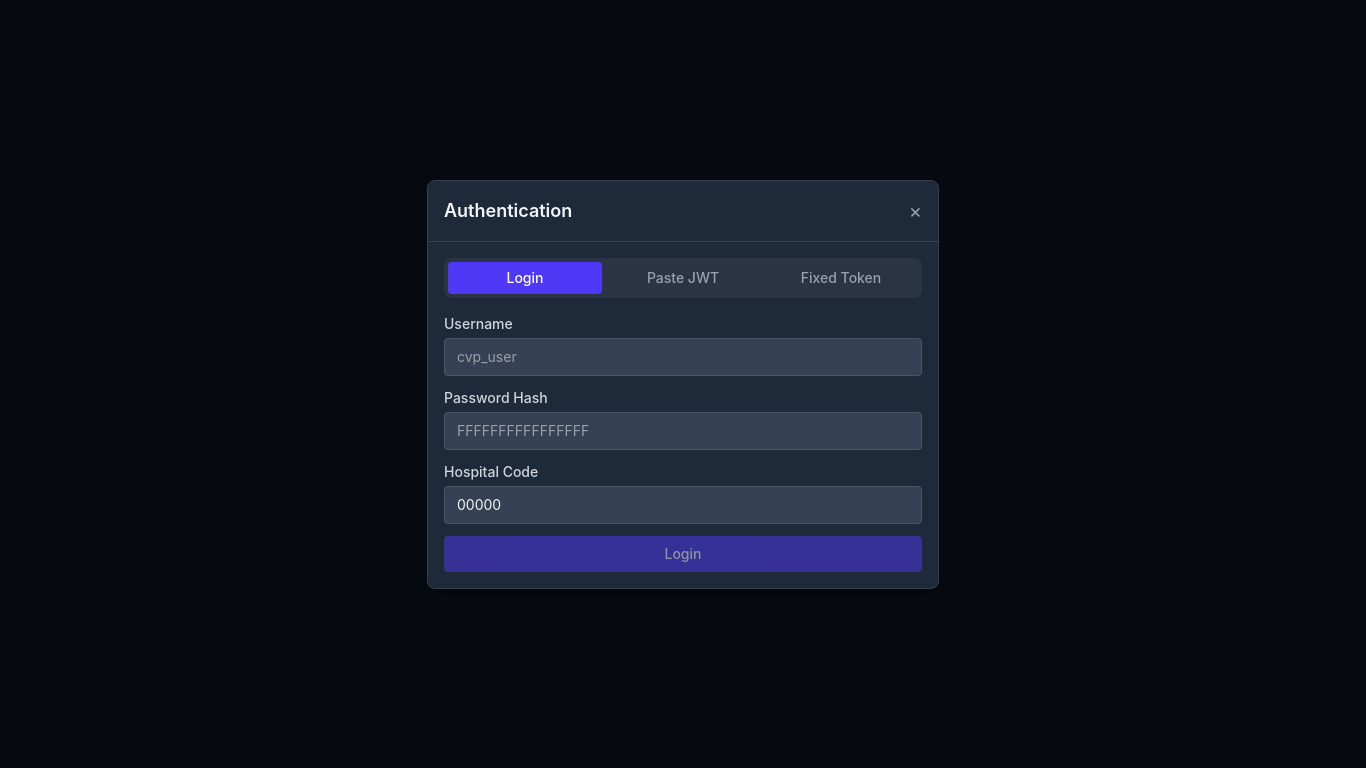
Test: AuthModal › switches to Fixed Token tab with defaults
Click the button "Fixed Token" at (841, 278), box 764,262 -> 918,294
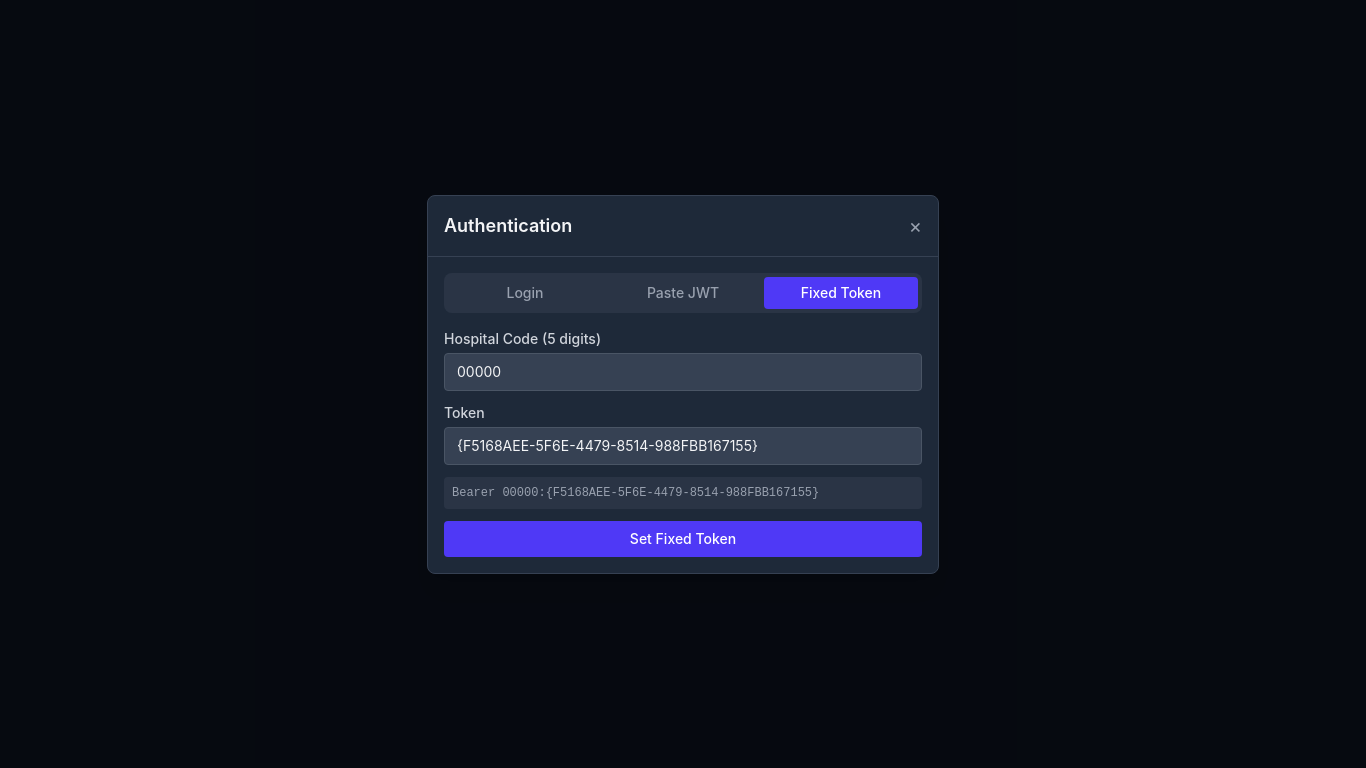
Now the text "Bearer 00000:{F5168AEE-5F6E-4479-8514-988FBB167155}" is shown, box 444,476 -> 922,508
